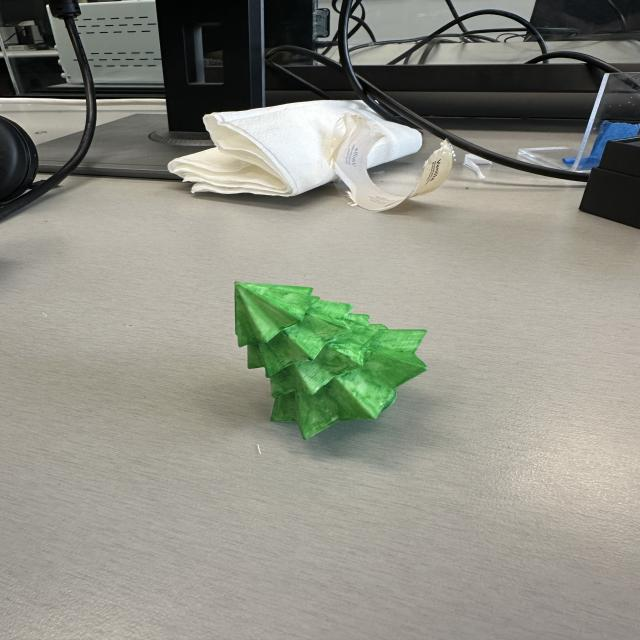tree: (230, 279, 428, 439)
